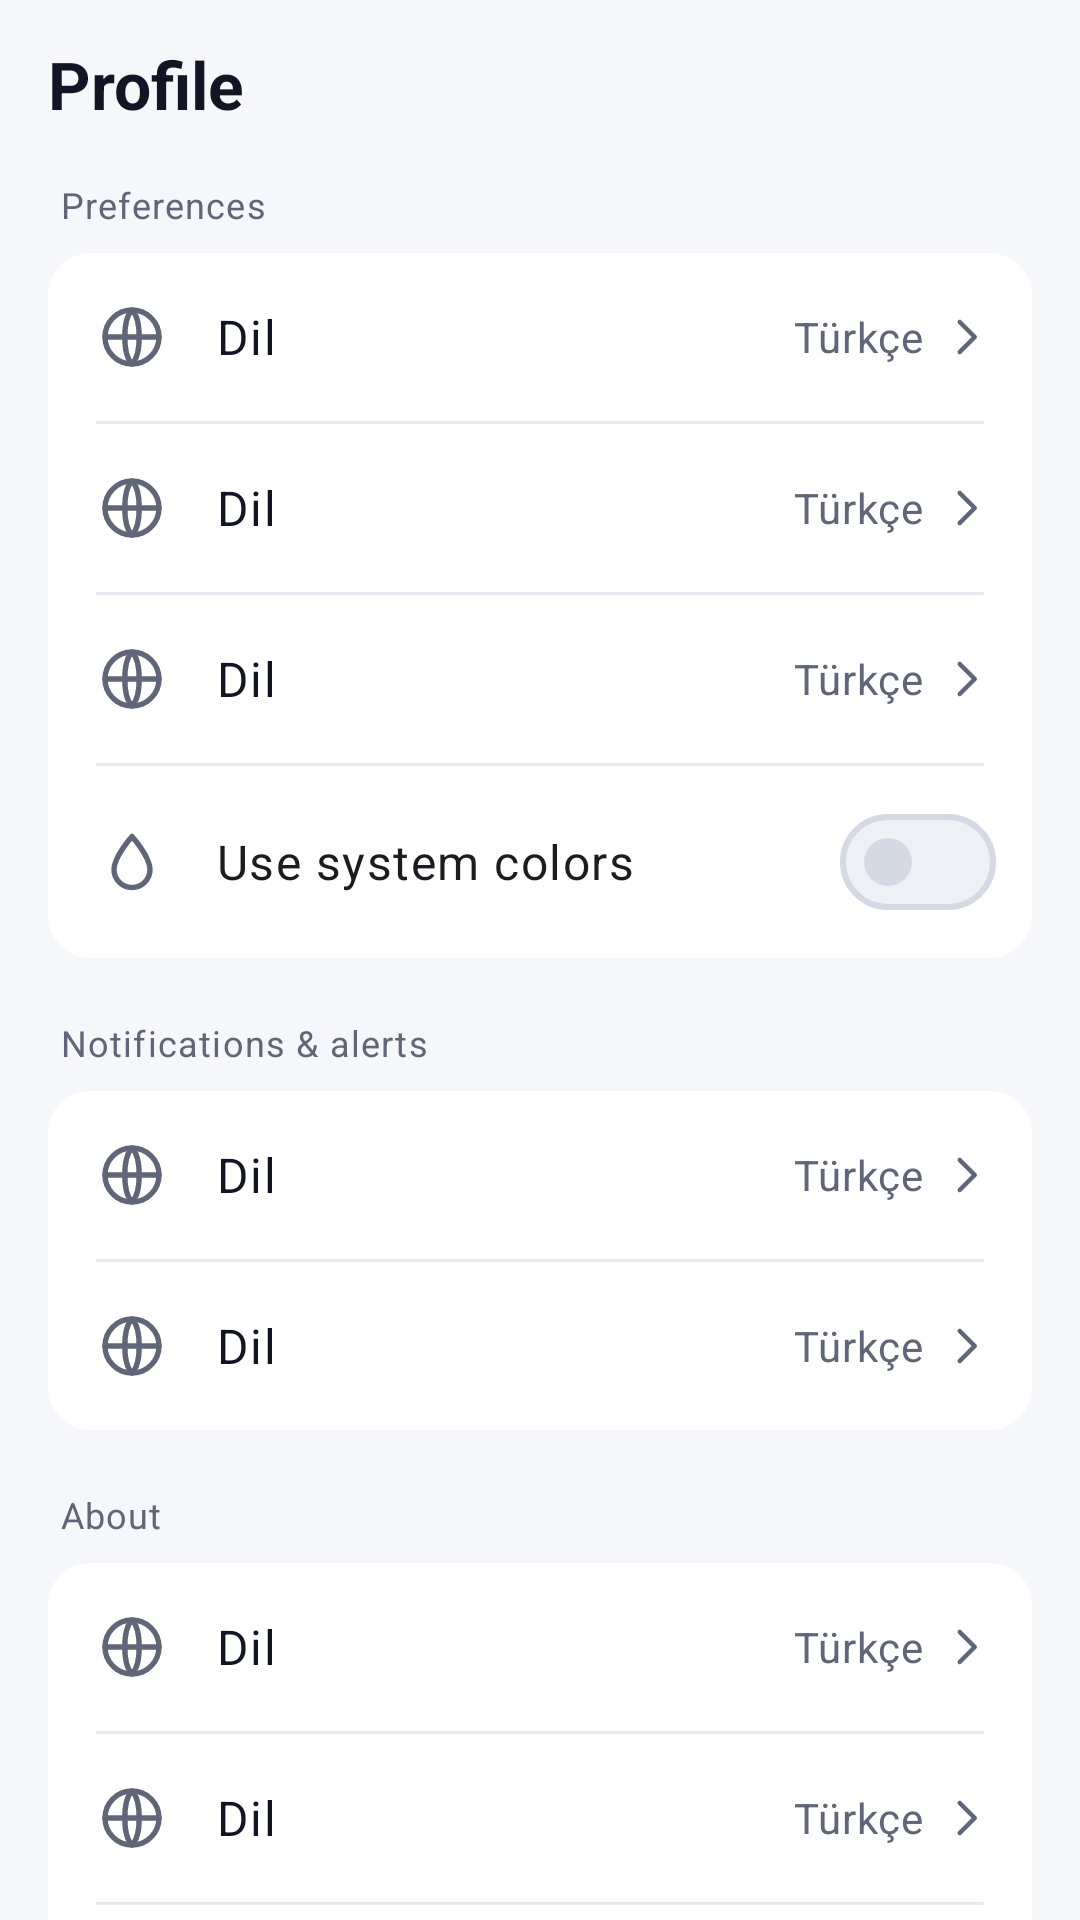

Icons on this 1080 x 1920 Android screen, each with the point to tap as (x,y):
chevron right: (967,337), (967,508), (967,679), (967,1175), (967,1346), (967,1647), (967,1818)
